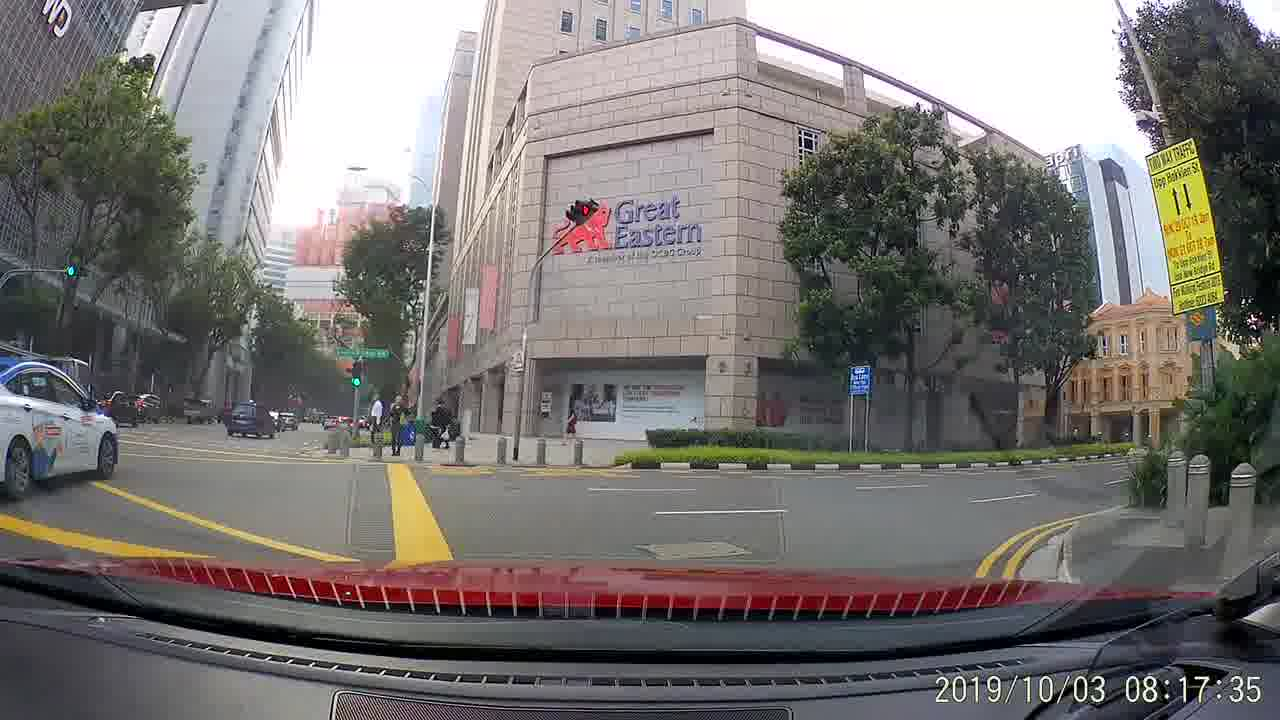car: (6, 347, 117, 504), (113, 388, 161, 429), (225, 400, 274, 437), (276, 406, 300, 432)
